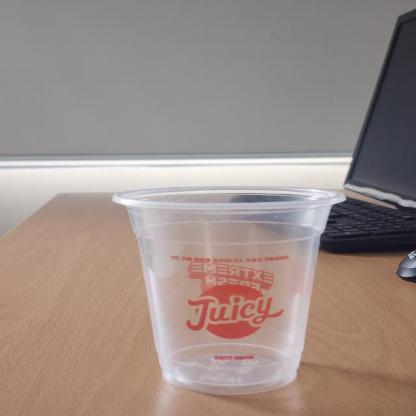Plastic Cup: (111, 184, 346, 393)
